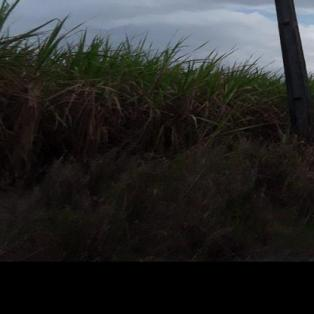Poste: (208, 0, 314, 177)
